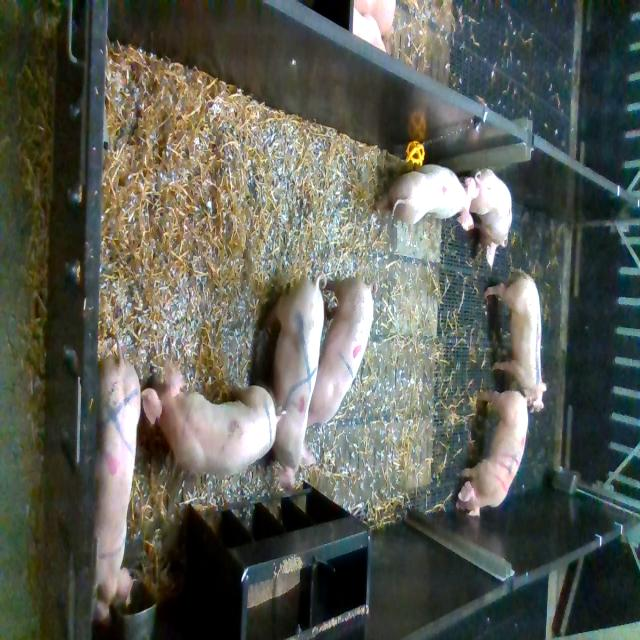pig: (141, 361, 287, 477), (259, 265, 327, 487), (93, 334, 141, 620), (307, 278, 378, 427), (456, 388, 532, 516), (484, 268, 547, 413), (375, 166, 480, 231), (469, 168, 512, 271)
